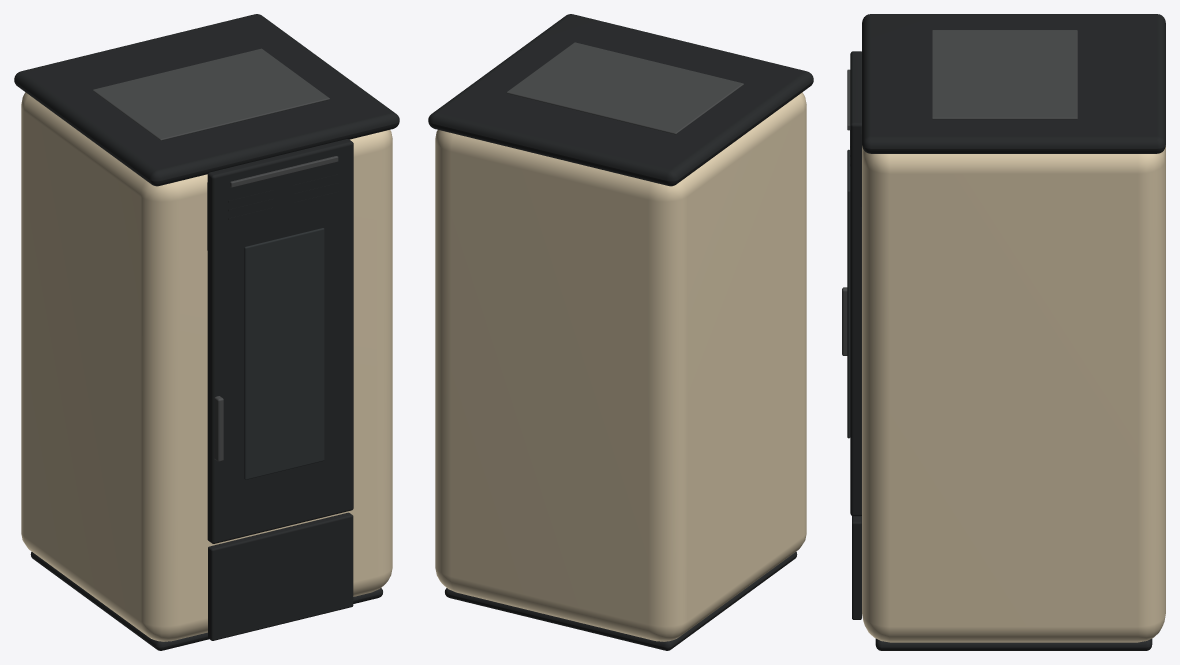
File: nordica-raffaella-idro-h18-5016-avorio.glb
3 renders of one model, left to right at view 1: azimuth 30°, elevation 25°; view 2: azimuth 150°, elevation 25°; view 3: azimuth 270°, elevation 25°, orthographic. The views are drawn at different scales.
Visible parts, largest first — view 1: Corpo arrotondato, Pannello porta, Coperchio superiore, Vetro porta, Pannello inferiore, Bocchetta superiore, Zoccolo, Fessura aria, Maniglia; view 2: Corpo arrotondato, Coperchio superiore, Bocchetta superiore, Zoccolo; view 3: Corpo arrotondato, Coperchio superiore, Bocchetta superiore, Pannello porta, Zoccolo, Vetro porta, Pannello inferiore, Pannello superiore.
Part boxes in pixels (x1,y1,x2,y2): Corpo arrotondato: (21,92,392,641); Pannello porta: (207,139,353,543); Coperchio superiore: (14,14,399,186); Vetro porta: (244,228,324,479); Pannello inferiore: (208,512,353,640); Bocchetta superiore: (92,48,329,140); Zoccolo: (30,552,382,650); Fessura aria: (230,156,338,187); Maniglia: (214,396,223,461); Corpo arrotondato: (435,92,806,641); Coperchio superiore: (428,14,813,186); Bocchetta superiore: (506,42,743,134); Zoccolo: (445,552,797,650); Corpo arrotondato: (862,145,1165,642); Coperchio superiore: (862,14,1165,153); Bocchetta superiore: (932,30,1077,119); Pannello porta: (850,51,861,516); Zoccolo: (875,638,1152,650); Vetro porta: (847,149,850,438); Pannello inferiore: (852,516,861,619); Pannello superiore: (854,134,861,206).
Bounding box in the file's own units: 0.633 × 1.18 × 0.6671.
